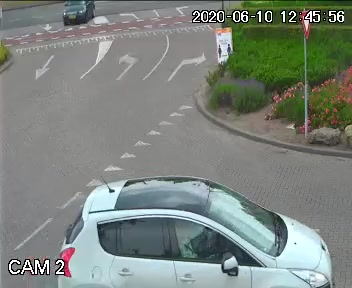car: (40, 165, 336, 288), (52, 0, 109, 30)
